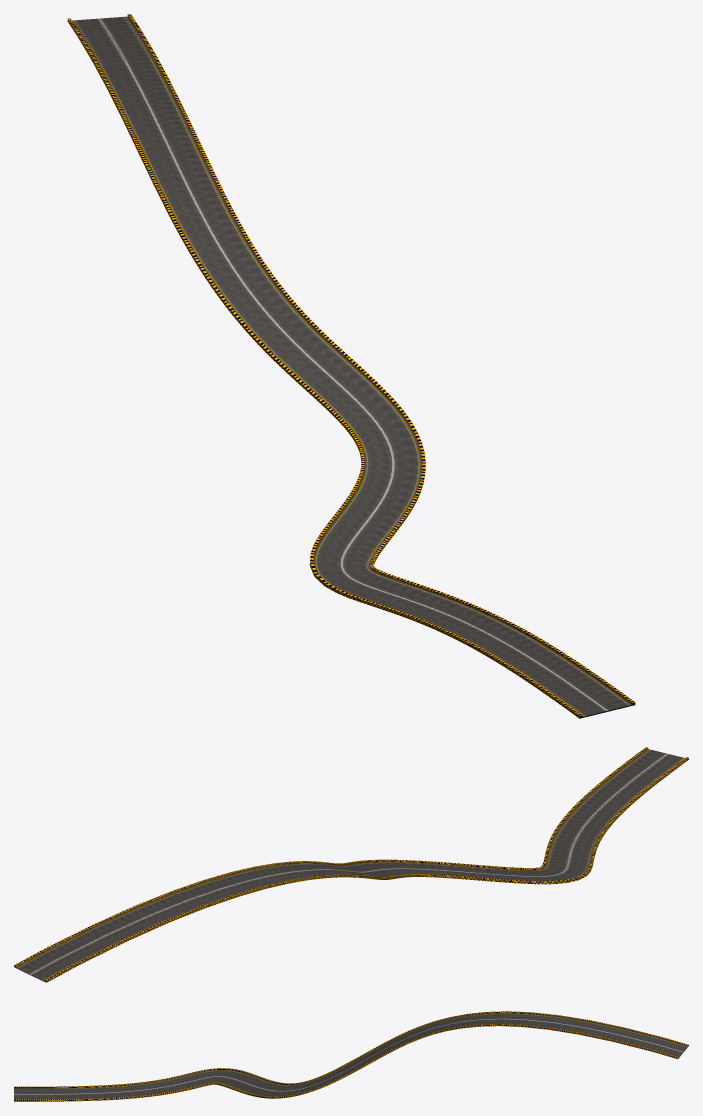
File: stunt_ramp.glb
The picture shows the model from 3 angles, top to bottom: view 1: azimuth 30°, elevation 25°; view 2: azimuth 150°, elevation 25°; view 3: azimuth 270°, elevation 25°; orthographic projection. The views are drawn at different scales.
Visible parts, largest first — view 1: Cube; view 2: Cube; view 3: Cube.
Boxes of the visible parts, bbox=[...] form: Cube: bbox=[67, 14, 635, 718]; Cube: bbox=[14, 747, 688, 982]; Cube: bbox=[14, 1011, 688, 1101].
Size of the model in its own units: 88.91 by 57.64 by 376.
Materials: 2 (2 with a texture image).
